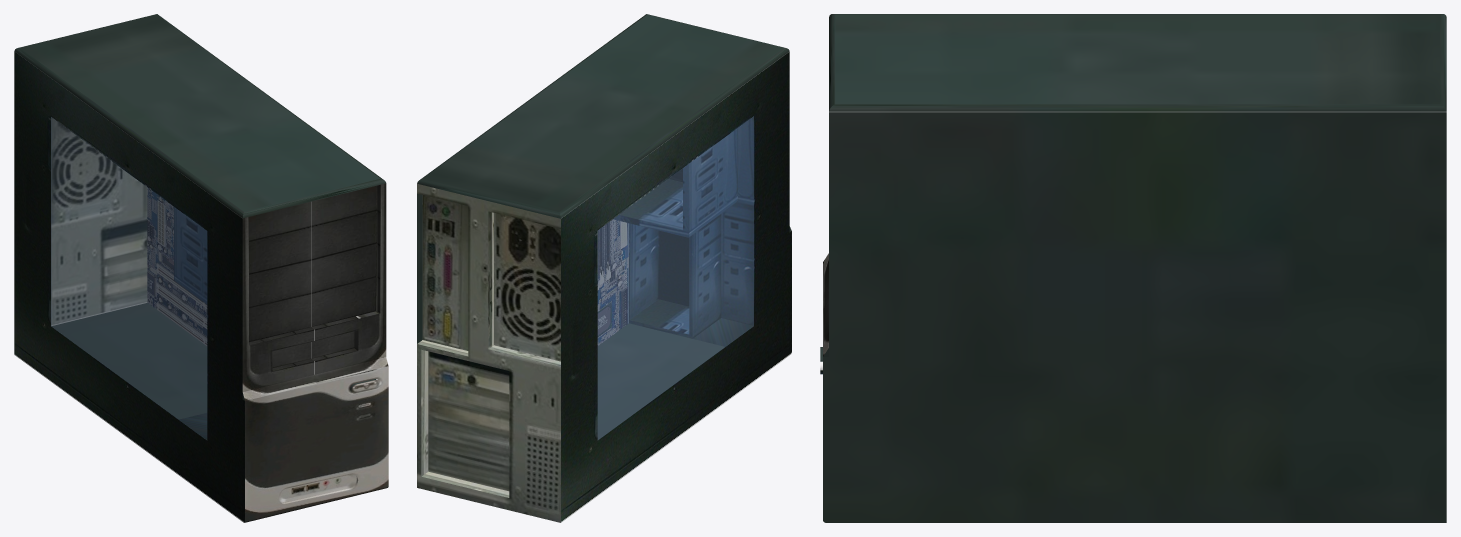
Rendered from gabinete1.fbx.
The picture shows the model from 3 angles, left to right: view 1: azimuth 30°, elevation 25°; view 2: azimuth 150°, elevation 25°; view 3: azimuth 270°, elevation 25°; orthographic projection. The views are drawn at different scales.
Visible parts, largest first — view 1: Group1, GABINETE___CPU_REALISTA_REALISTC1; view 2: Group1, GABINETE___CPU_REALISTA_REALISTC1; view 3: Group1.
Part boxes in pixels (x1,y1,x2,y2): Group1: [14, 14, 388, 522]; GABINETE___CPU_REALISTA_REALISTC1: [147, 187, 207, 345]; Group1: [417, 14, 791, 522]; GABINETE___CPU_REALISTA_REALISTC1: [597, 219, 628, 345]; Group1: [820, 14, 1446, 522].
Bounding box in the file's own units: 1.8 × 3.69 × 5.03.
Materials: 16 (15 with a texture image).
